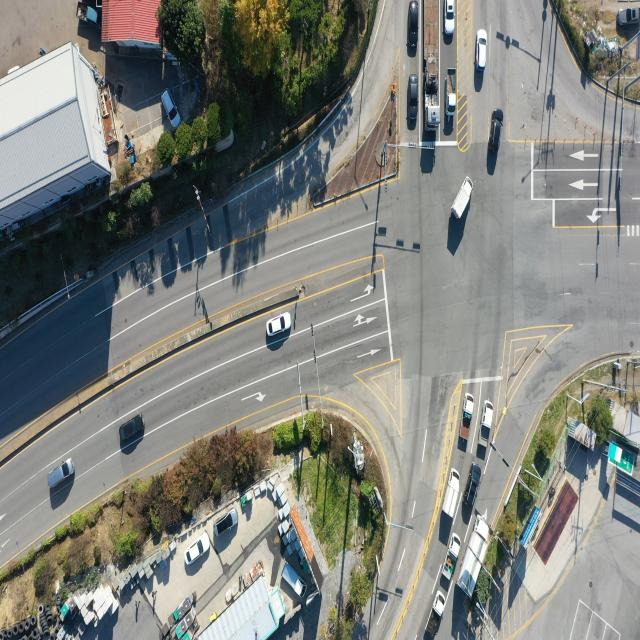car: (184, 532, 211, 572), (46, 458, 74, 489), (467, 464, 484, 510), (486, 110, 503, 156), (120, 415, 146, 444), (161, 92, 179, 132), (408, 0, 420, 56), (268, 313, 293, 338), (214, 512, 237, 538), (410, 76, 420, 126), (618, 7, 640, 25), (478, 33, 488, 72), (446, 0, 456, 35)
large_truck: (425, 0, 439, 127)
medium_truck: (460, 518, 492, 595)
small_truck: (439, 466, 461, 520), (424, 590, 446, 640), (280, 566, 309, 602), (461, 394, 476, 454), (451, 180, 471, 222), (479, 400, 494, 449), (443, 534, 460, 577), (76, 3, 100, 27), (447, 68, 457, 116)
